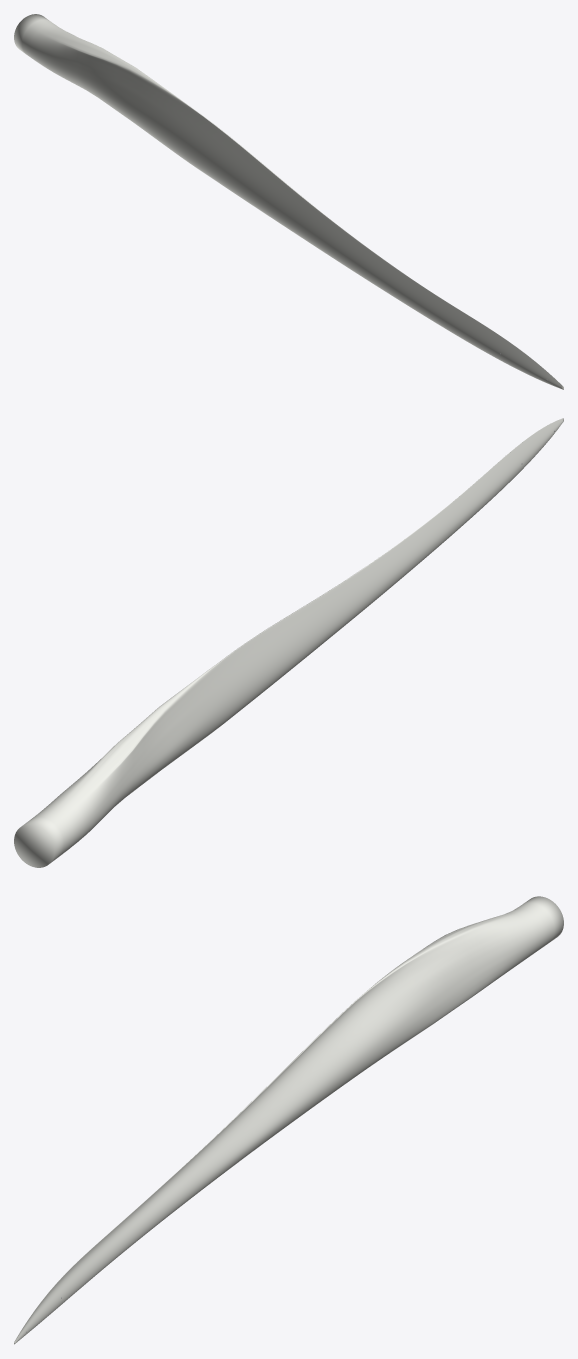
Rendered from blade.glb.
The picture shows the model from 3 angles, top to bottom: view 1: azimuth 30°, elevation 25°; view 2: azimuth 150°, elevation 25°; view 3: azimuth 330°, elevation 25°; orthographic projection. The views are drawn at different scales.
Parts seen in each view (by area): view 1: blade; view 2: blade; view 3: blade.
Boxes of the visible parts, box(x1,y1,x2,y2) form: blade: box(14, 14, 563, 389); blade: box(14, 418, 563, 867); blade: box(14, 896, 563, 1344).
Bounding box in the file's own units: 3.87 × 4.52 × 63.
2 materials, 2 textured.
